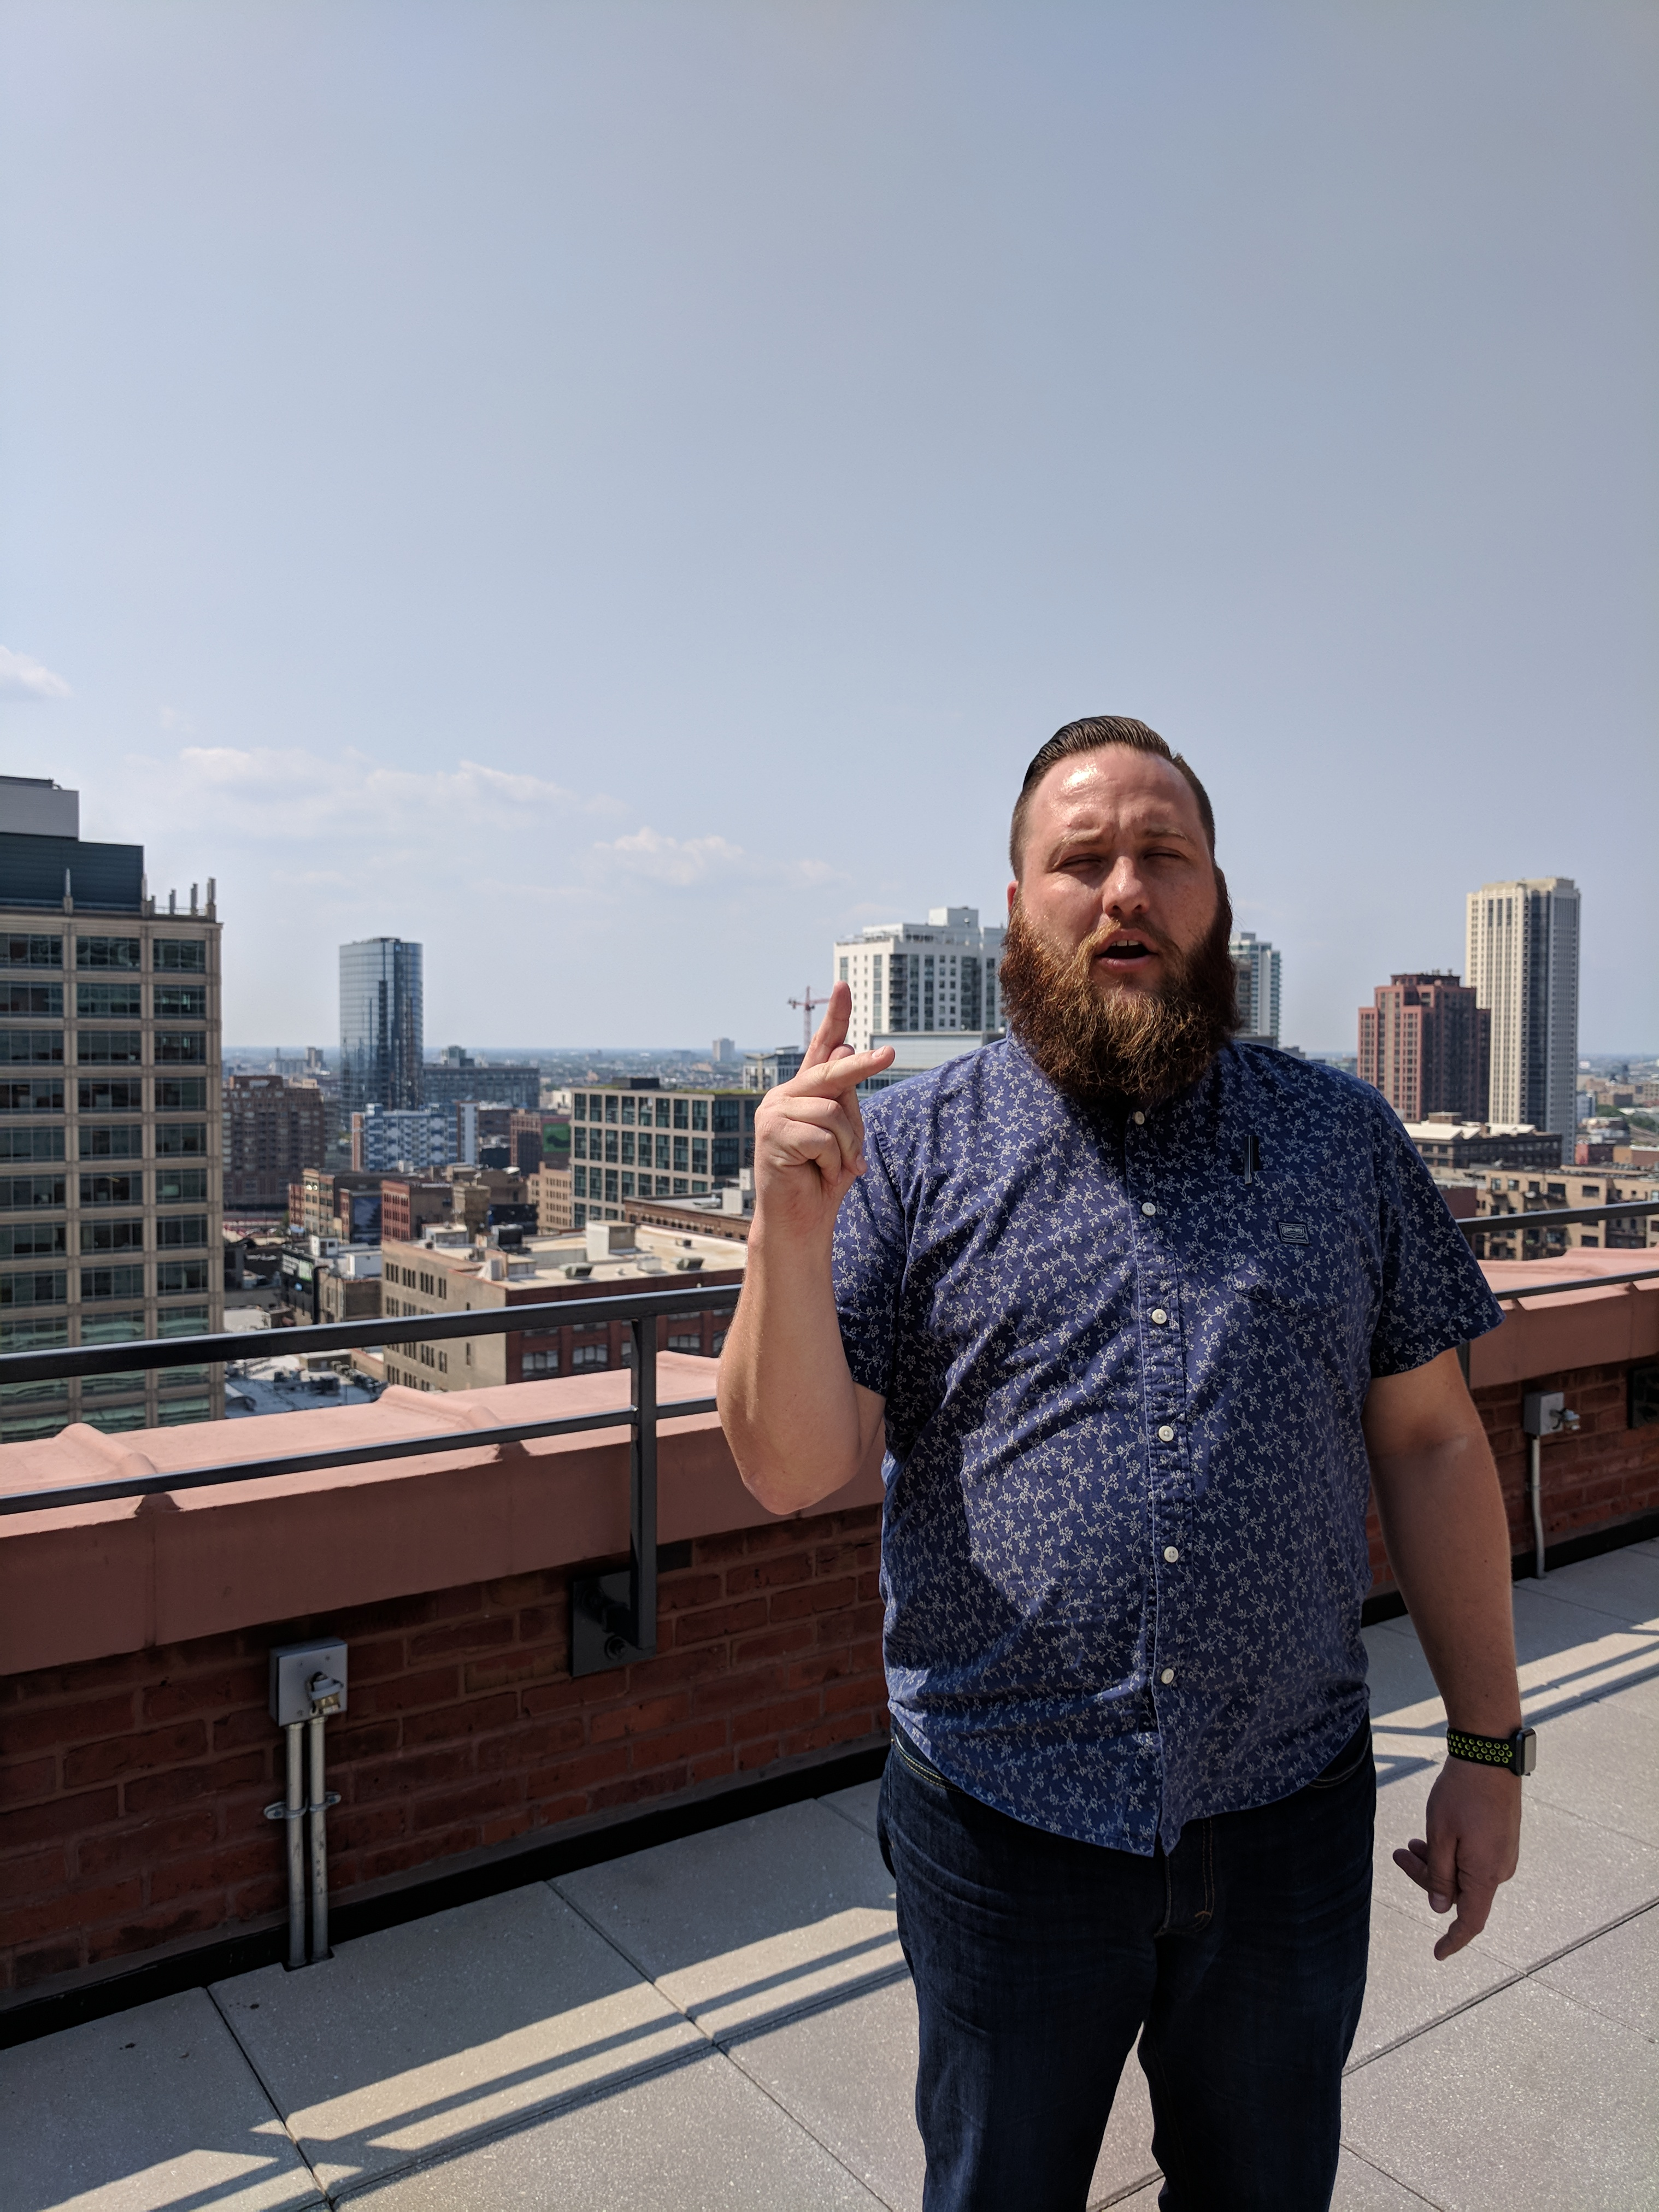k: (749, 977, 906, 1221)
